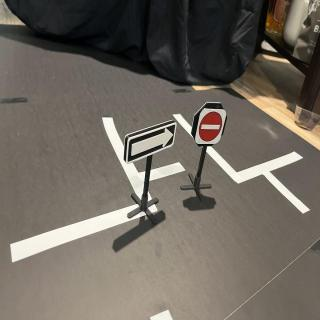sign_noentry: (194, 110, 230, 146)
sign_oneway_right: (123, 116, 179, 166)
